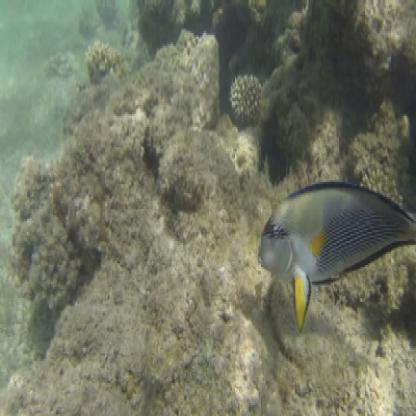surgeon: (251, 171, 415, 309)
